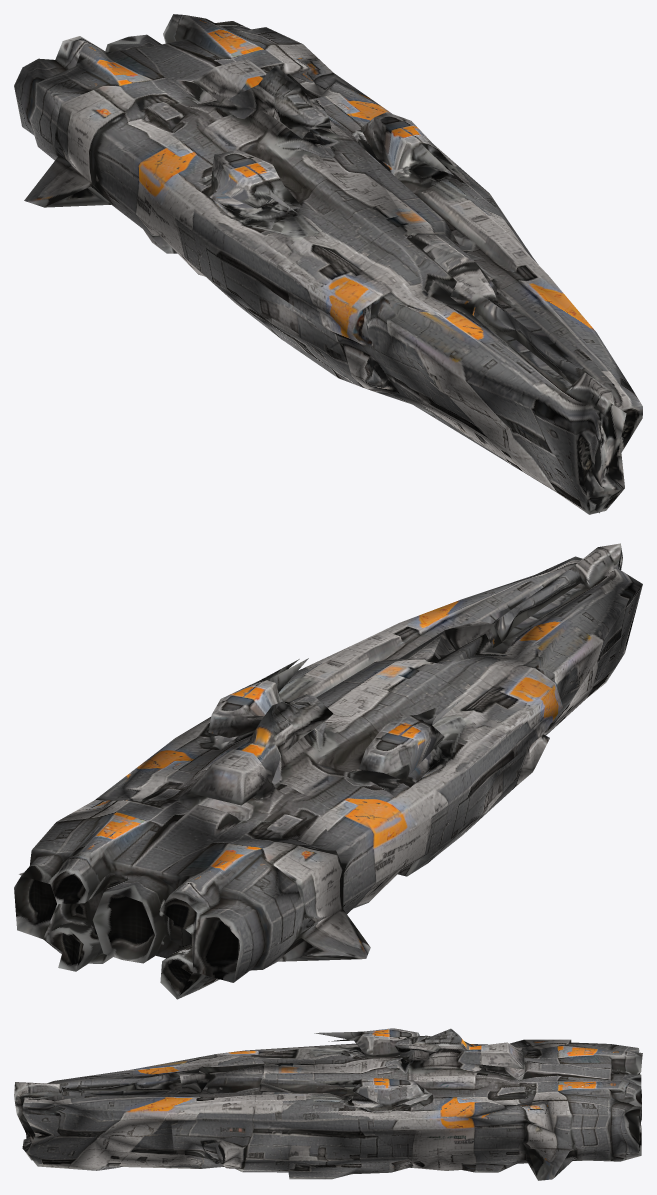
File: tripo-rebaked-1000.glb
The picture shows the model from 3 angles, top to bottom: view 1: azimuth 30°, elevation 25°; view 2: azimuth 150°, elevation 25°; view 3: azimuth 270°, elevation 25°; orthographic projection. The views are drawn at different scales.
Visible parts, largest first — view 1: Low; view 2: Low; view 3: Low.
Part boxes in pixels (<box>): Low: <box>14,14,642,514</box>; Low: <box>14,543,642,999</box>; Low: <box>14,1028,642,1180</box>.
Size of the model in its own units: 0.3985 by 0.2424 by 0.9809.
Materials: 1 (1 with a texture image).
